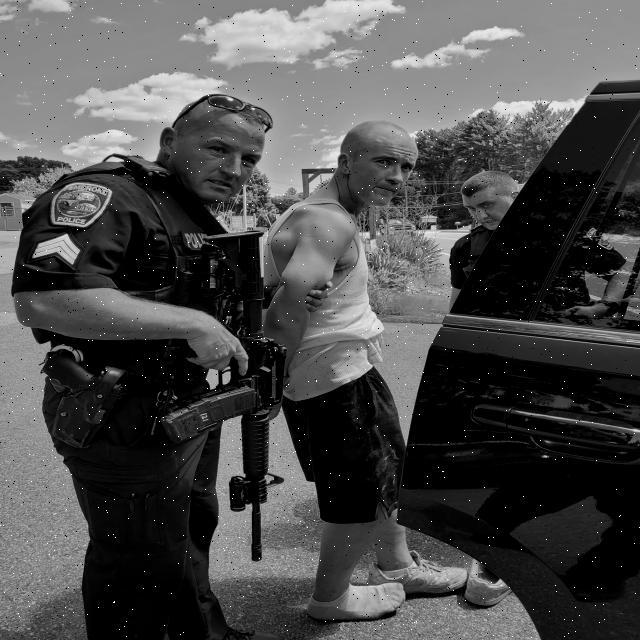police: (0, 64, 298, 640)
